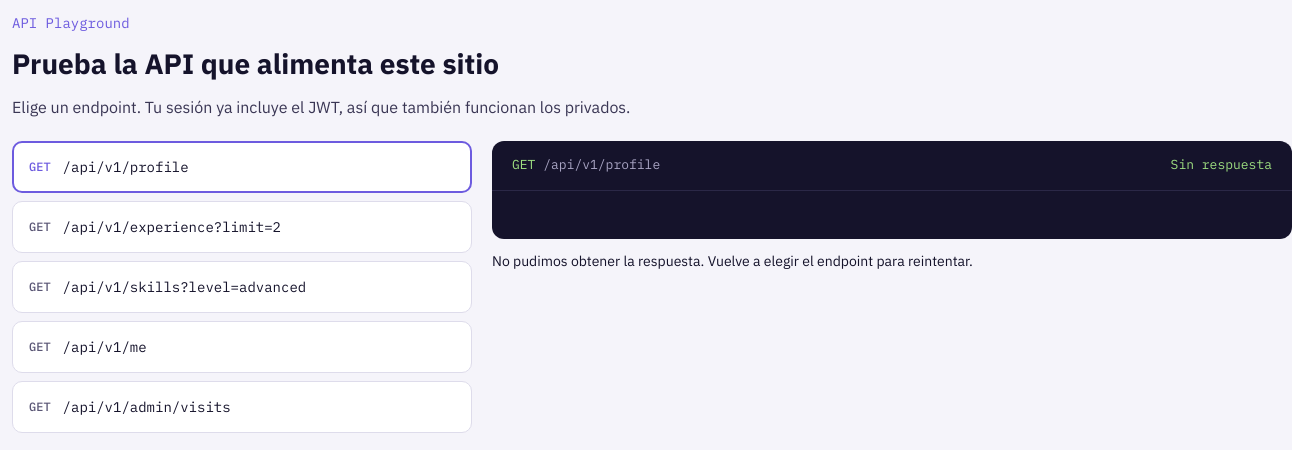
ApiPlayground › shows a recoverable error on a rejected promise and lets the user retry
Expected: the element showing "GET /api/v1/profile Sin respuesta" is shown, [492,141,1291,239]
Click the button "GET /api/v1/profile". click: (126, 167)
box: [12,141,472,193]
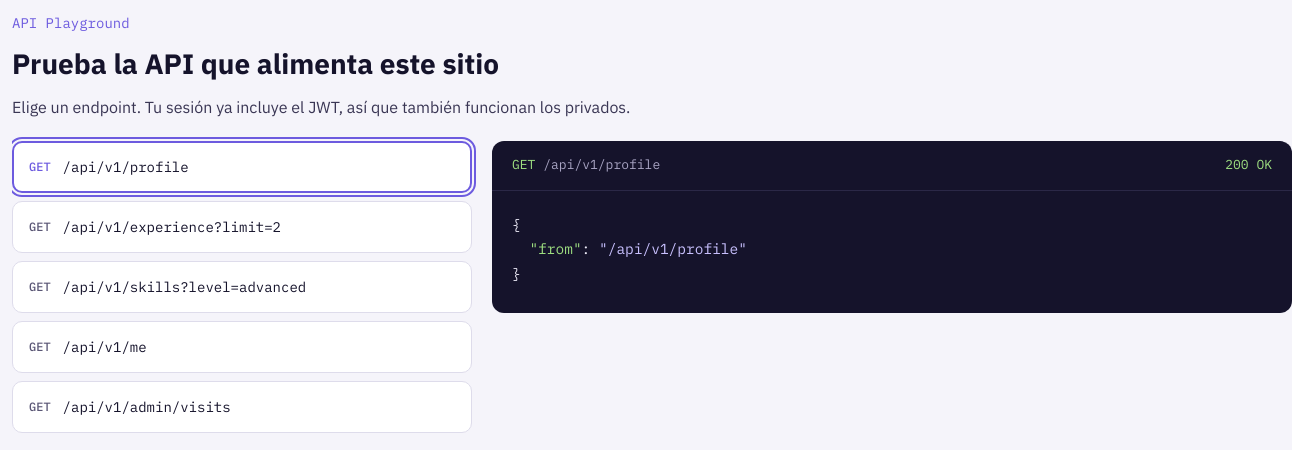
Expected: the element showing "GET /api/v1/profile 200 OK { \"from\": \"/api/v1/profile\" }" is shown, [492,141,1291,312]
